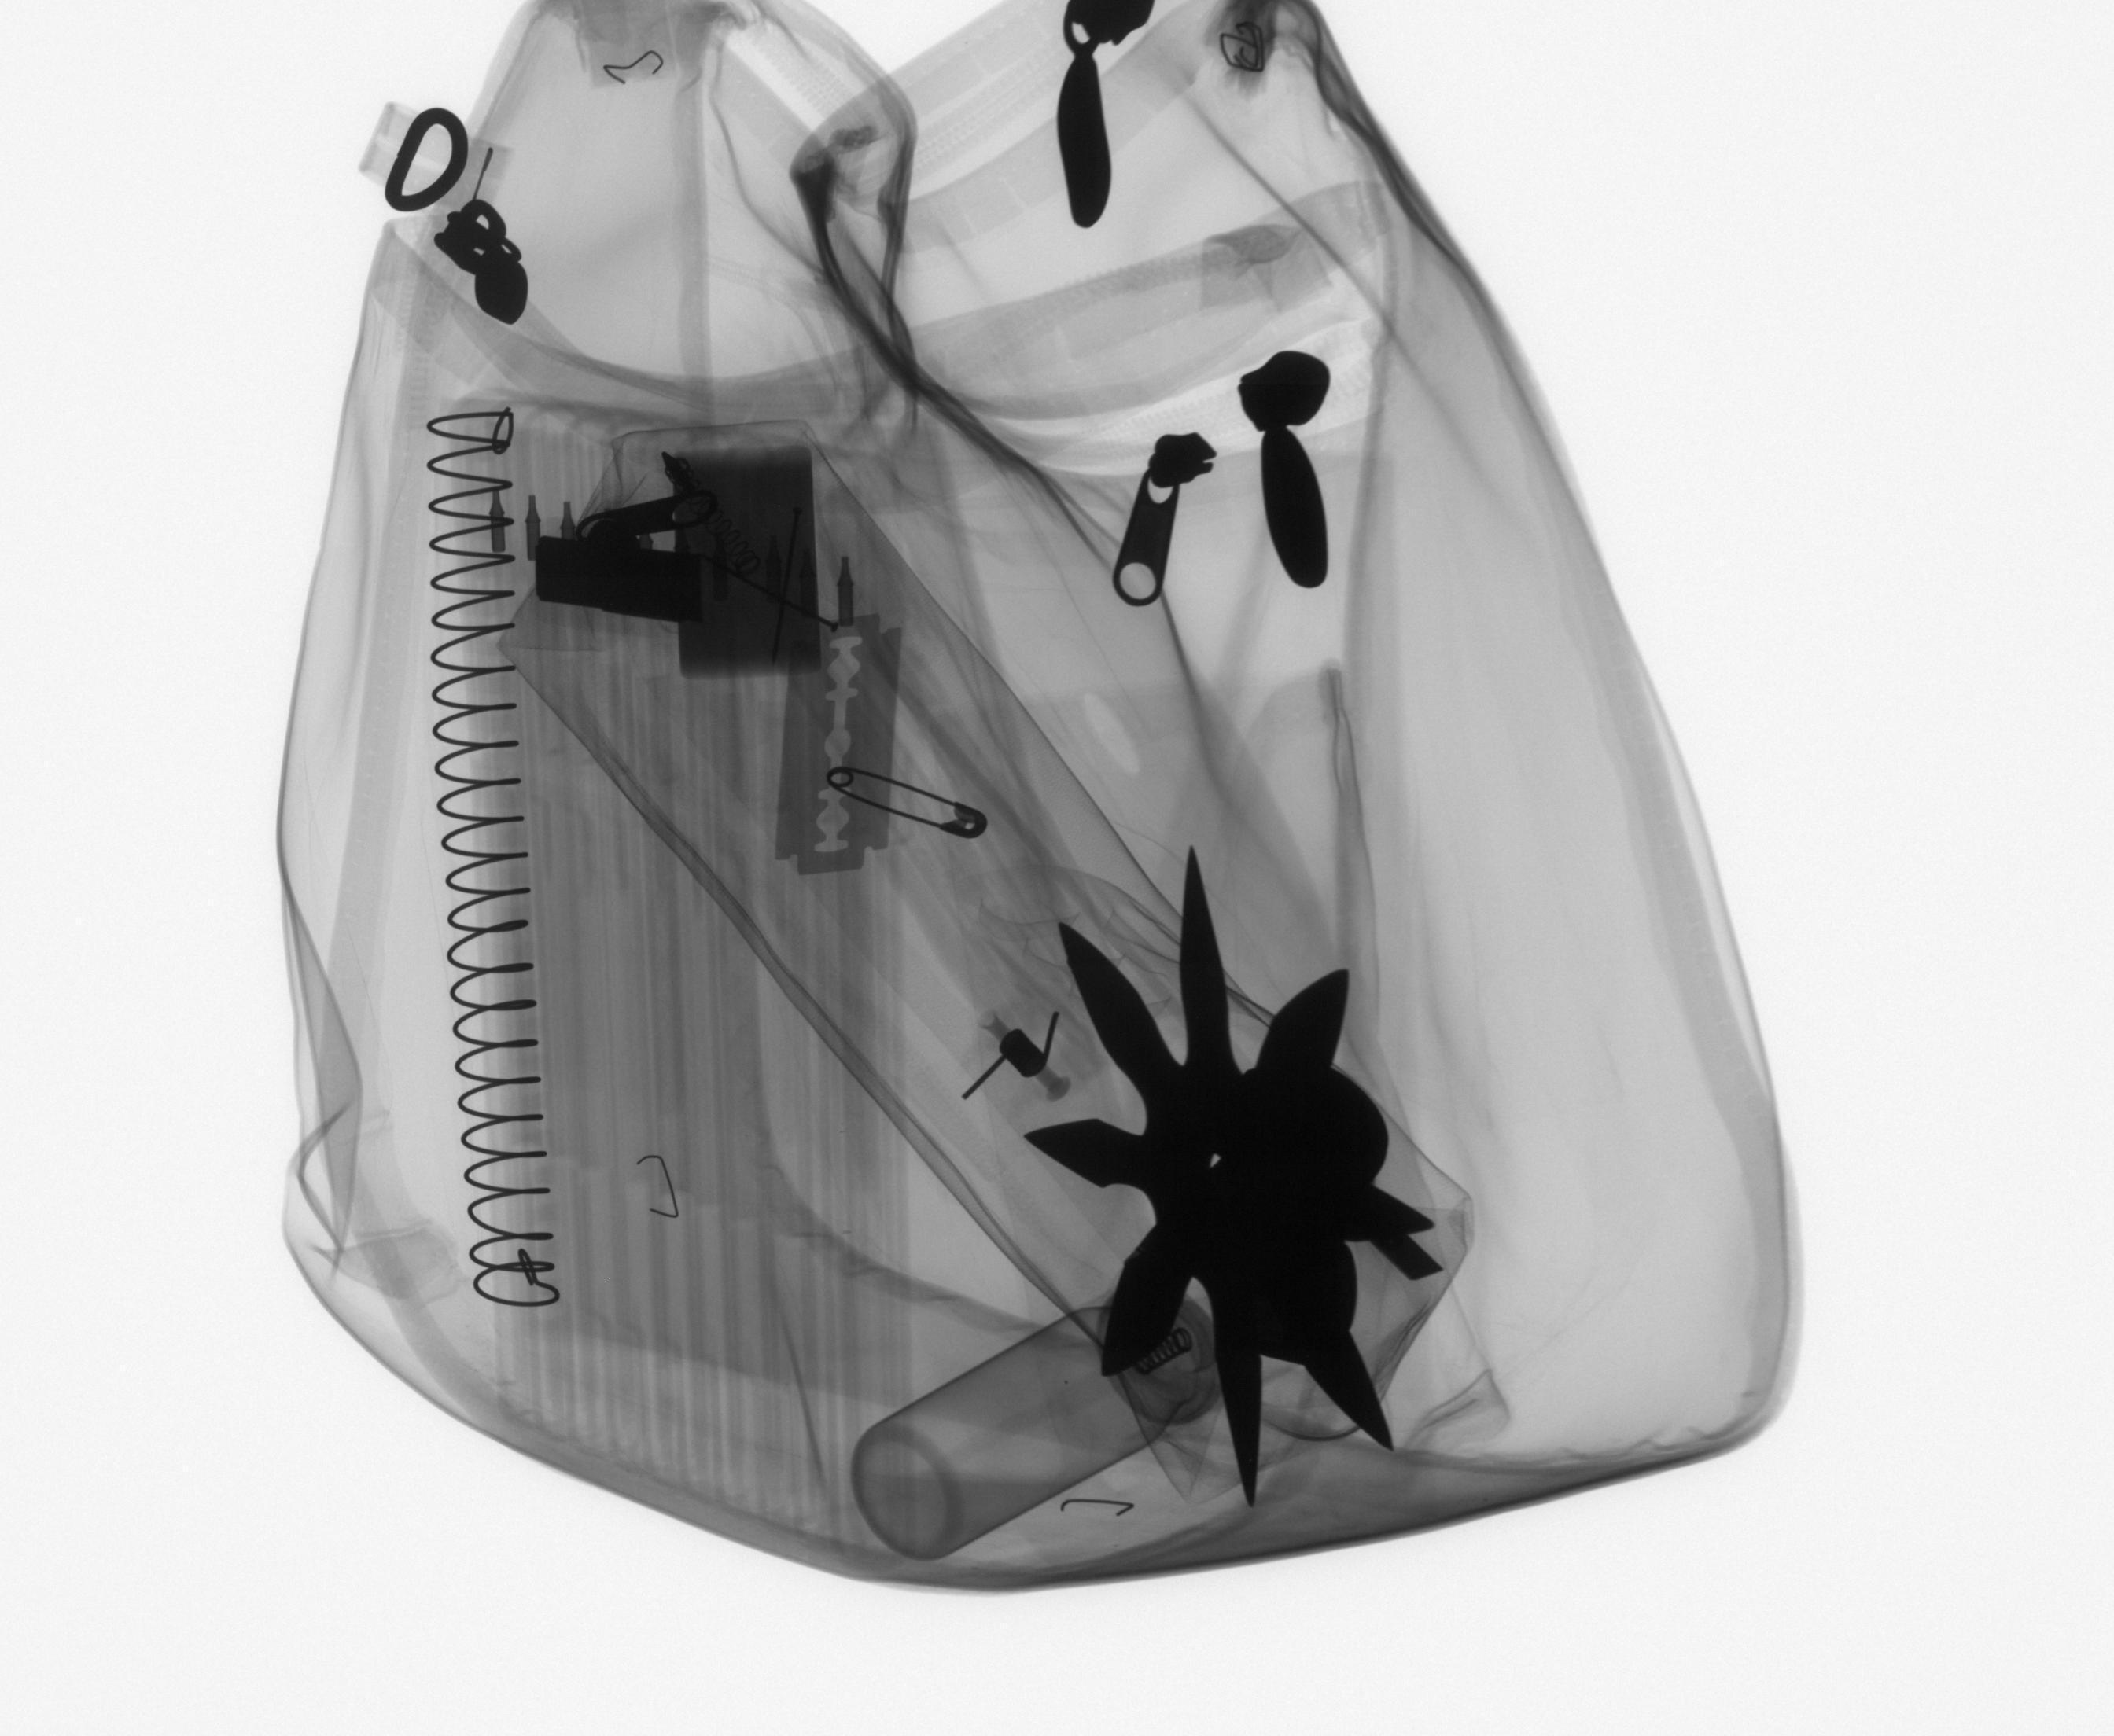RazorBlade: (769, 607, 908, 886)
Shuriken: (1011, 834, 1442, 1515)
